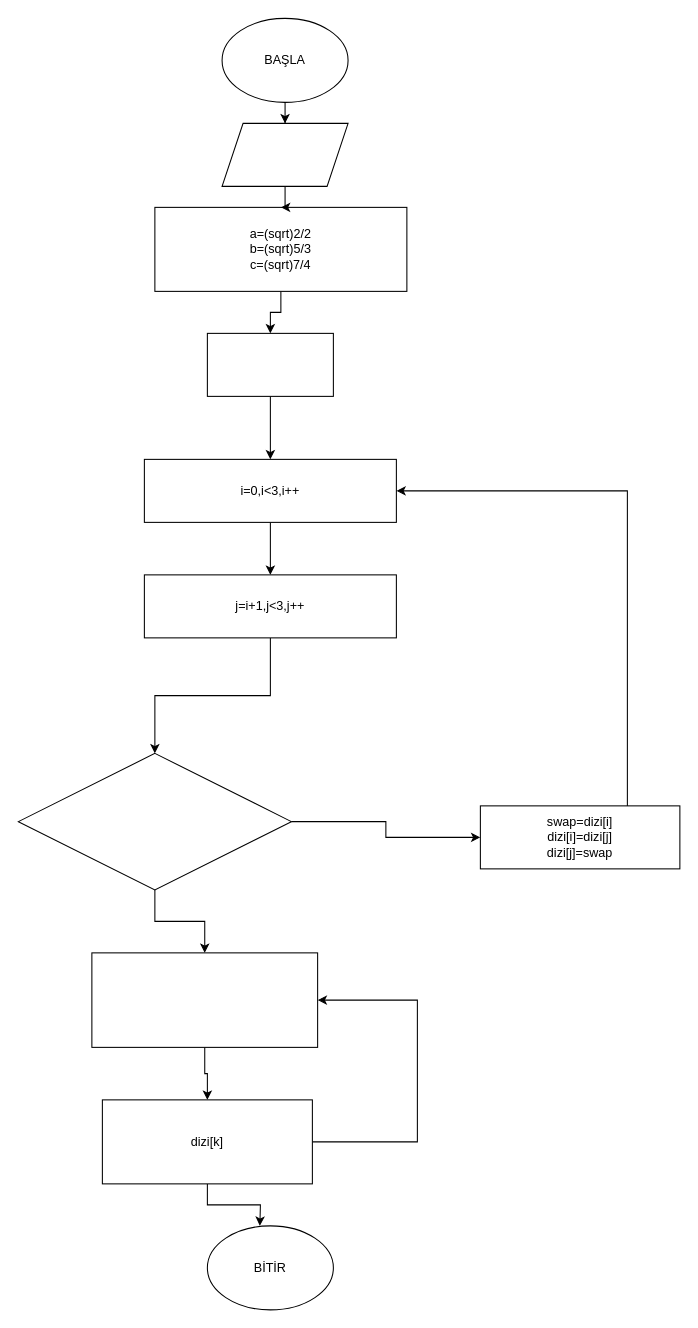
The diagram is 698 pixels wide and 1328 high, and some of its shapes have lost their labels. The shapes that lost their labels are listed below. From the top down, each one's centre as x and y in pixels, then its label:
the point at 284,154: swap,i,j
the point at 269,364: dizi[0]=a dizi[1]=b dizi[2]=c
the point at 154,821: dizi[i]>dizi[j]
the point at 204,999: k=0,k<3,k++
